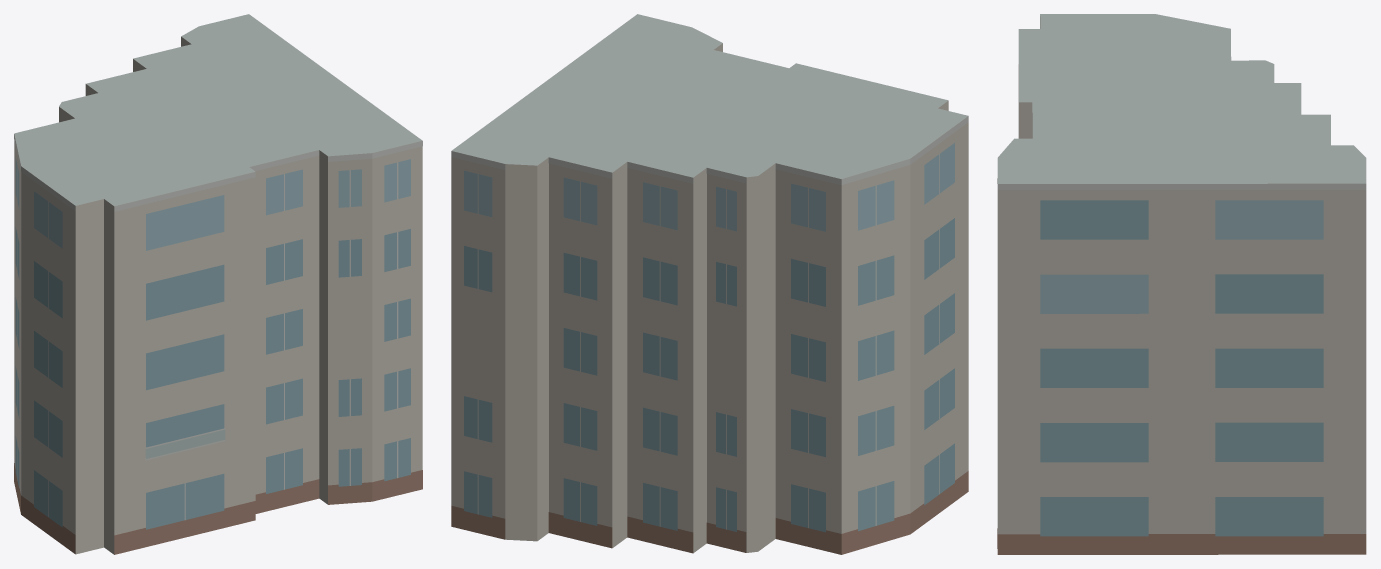
File: survey-upis-32759049.glb
The picture shows the model from 3 angles, left to right: view 1: azimuth 30°, elevation 25°; view 2: azimuth 150°, elevation 25°; view 3: azimuth 270°, elevation 25°; orthographic projection. The views are drawn at different scales.
Visible parts, largest first — view 1: survey-upis-32759049.tmp; view 2: survey-upis-32759049.tmp; view 3: survey-upis-32759049.tmp.
Part boxes in pixels (bbox=[...]): survey-upis-32759049.tmp: bbox=[14, 14, 422, 554]; survey-upis-32759049.tmp: bbox=[451, 14, 968, 554]; survey-upis-32759049.tmp: bbox=[997, 14, 1366, 554].
Bounding box in the file's own units: 15 × 15.25 × 13.76.
